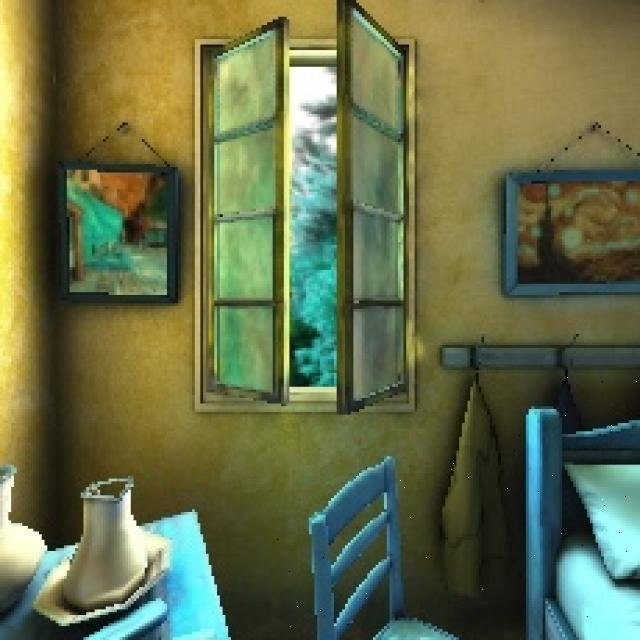bed: (503, 375, 640, 640)
chair: (275, 462, 490, 640)
